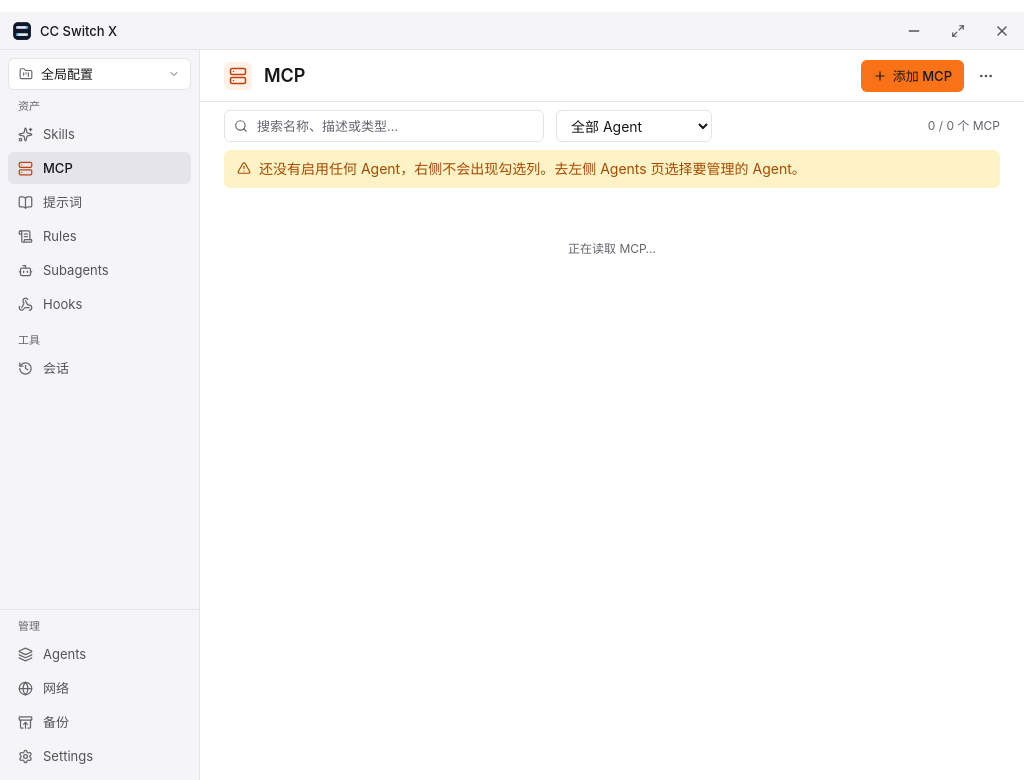
Test: 全局与项目同时只有一项处于选中态
The width and height of the screenshot is (1036, 780).
Click the button with aria-label "配置范围：": (100, 74) [8,58,191,90]
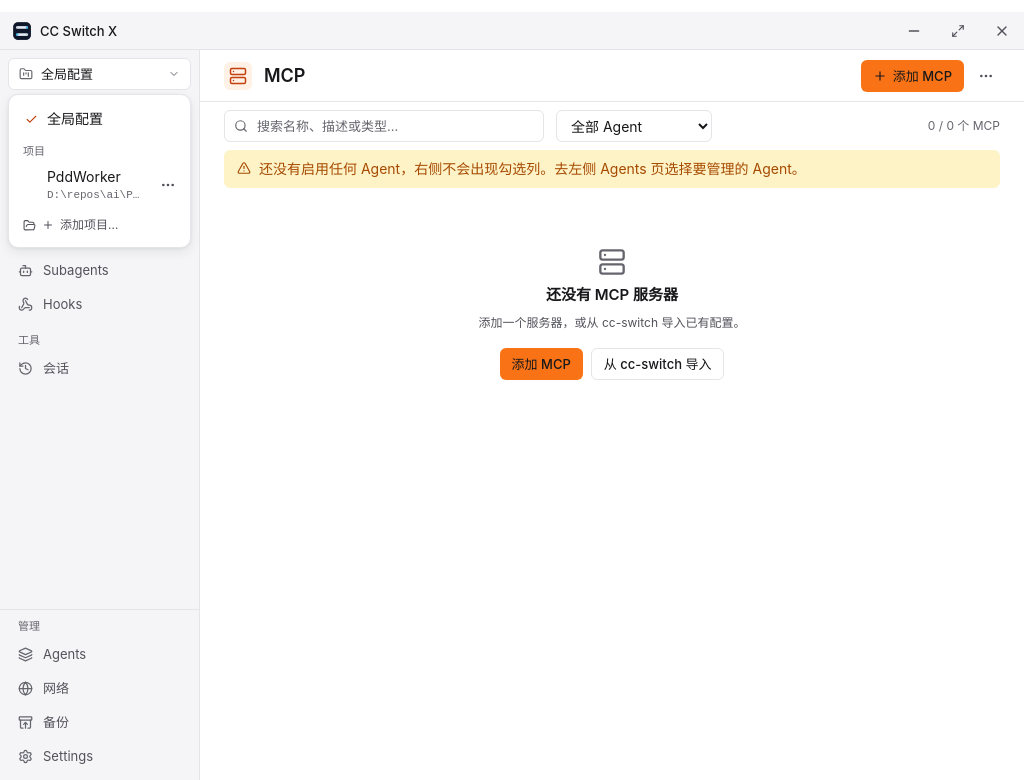
Result: the 2nd button "全局配置" is shown at [17,103,182,135]
Press Escape
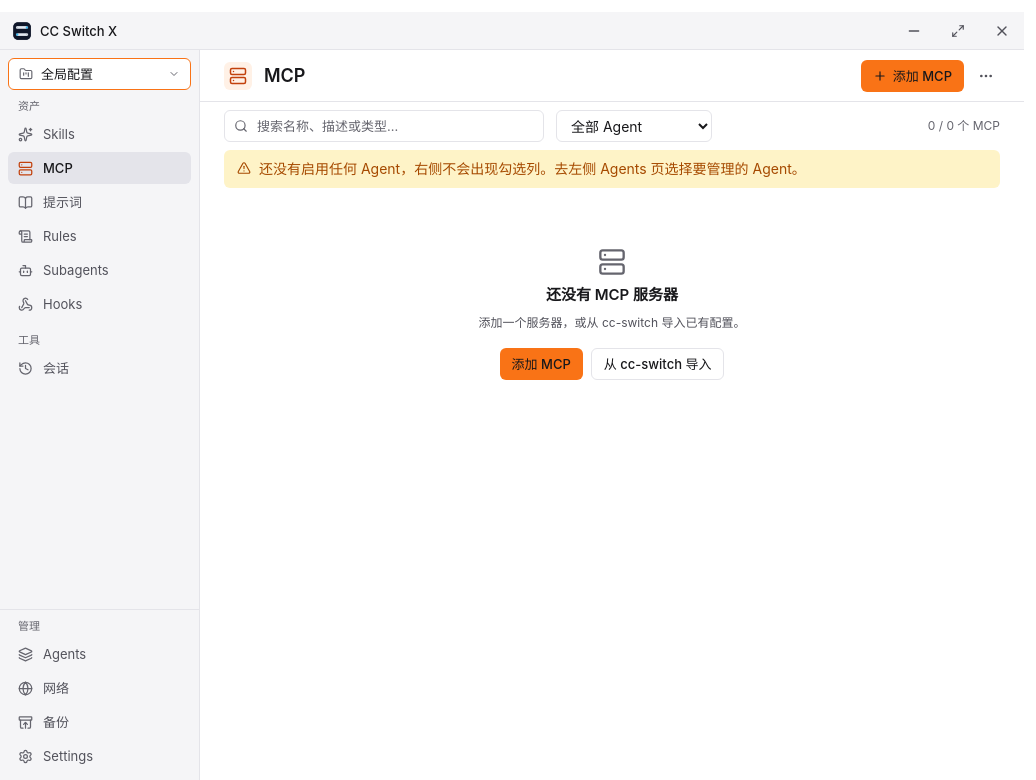
Click the button with aria-label "配置范围：": (100, 74) [8,58,191,90]
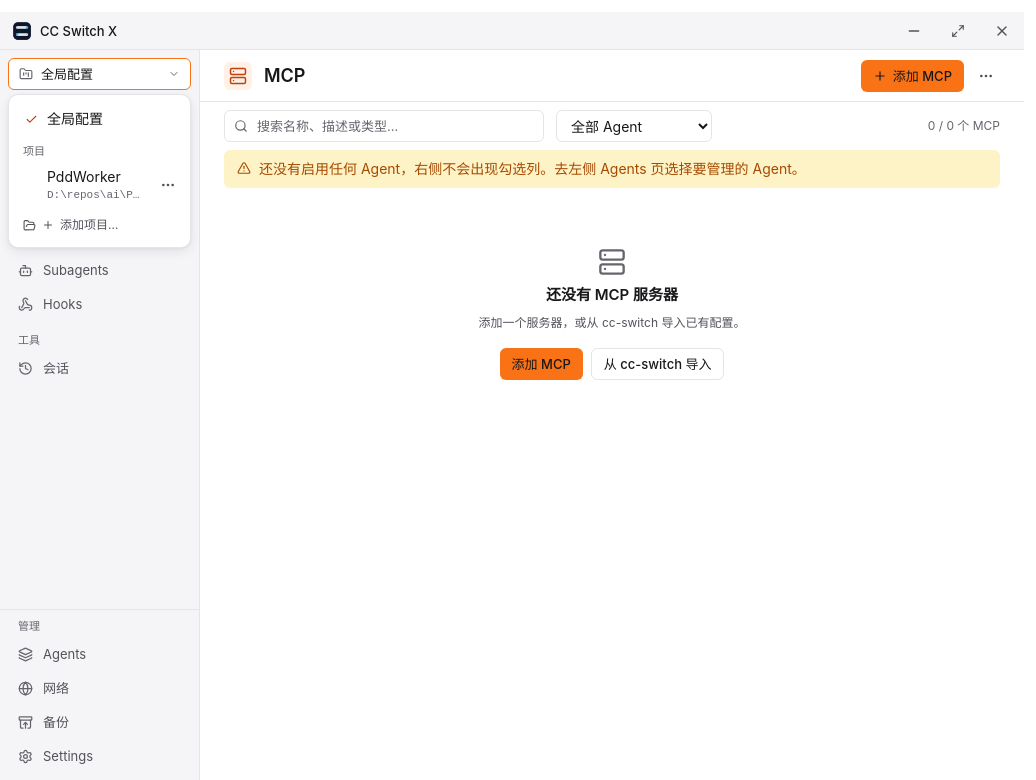
Click the button "PddWorker D:\\repos\\ai\\PddWorker": (84, 185) [17,163,152,207]
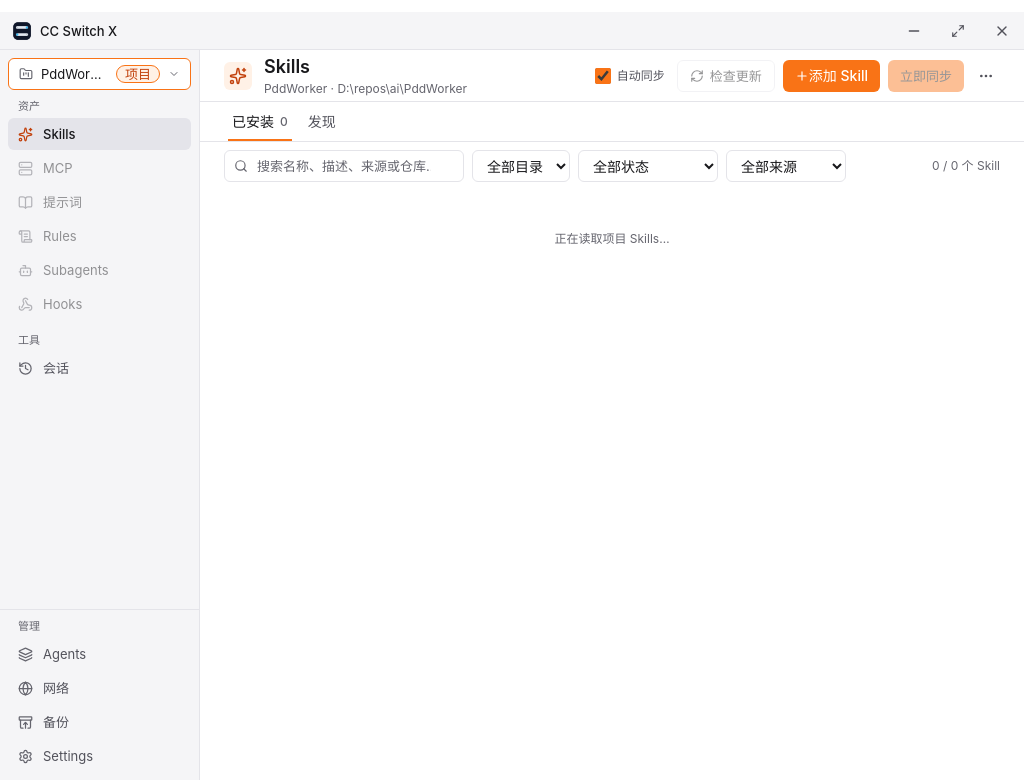
Click the button with aria-label "配置范围：": (100, 74) [8,58,191,90]
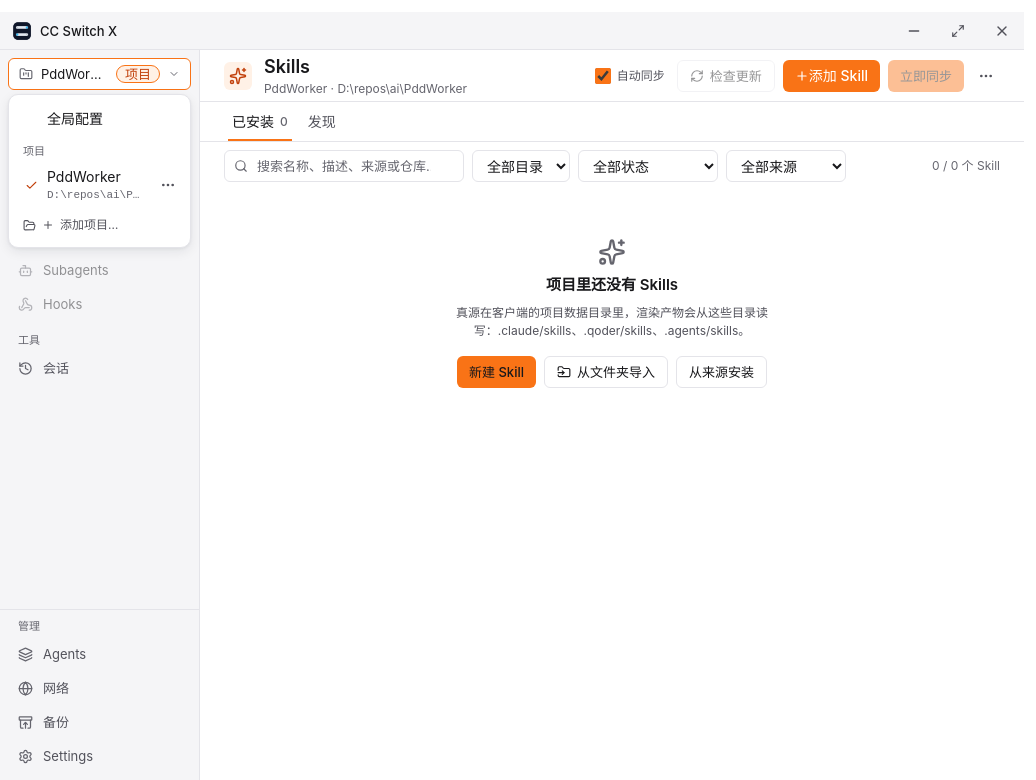
Result: the button "全局配置" is shown at [17,103,182,135]
